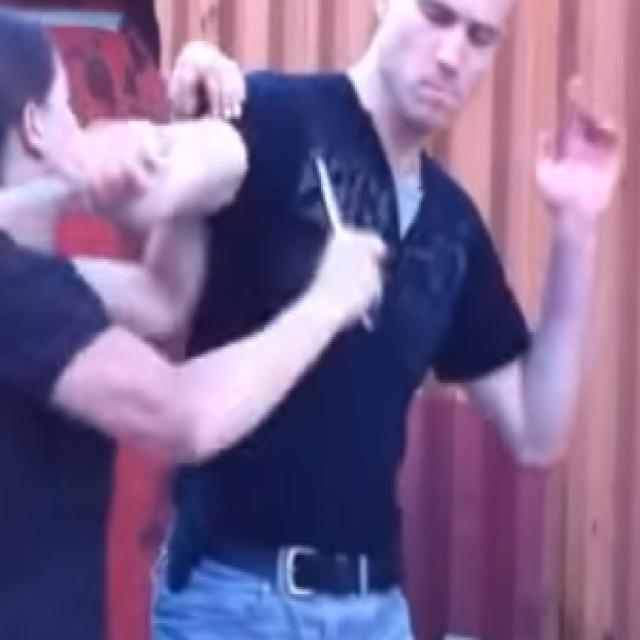Fknife: (306, 135, 381, 346)
